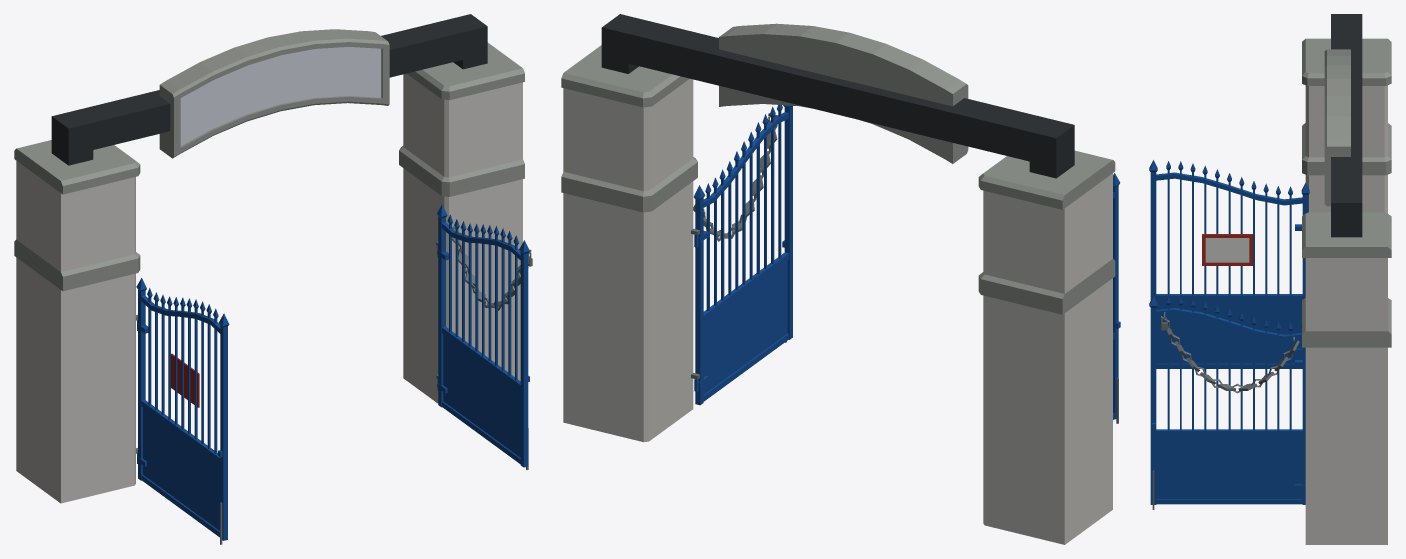
The model's file is main-entrance-gate-bb6357.glb.
3 views of the same model, side by side, from view 1: azimuth 30°, elevation 25°; view 2: azimuth 150°, elevation 25°; view 3: azimuth 270°, elevation 25° (orthographic). The views are drawn at different scales.
Visible parts, largest first — view 1: gate-mesh, gate-l-mesh, gate-r-mesh, chain-mesh; view 2: gate-mesh, gate-r-mesh, gate-l-mesh, chain-mesh; view 3: gate-mesh, gate-r-mesh, gate-l-mesh, chain-mesh.
Boxes of the visible parts, <box> form: gate-mesh: <box>14,14,524,503</box>; gate-l-mesh: <box>136,278,229,544</box>; gate-r-mesh: <box>437,204,531,469</box>; chain-mesh: <box>452,226,532,310</box>; gate-mesh: <box>561,14,1115,544</box>; gate-r-mesh: <box>694,105,792,405</box>; gate-l-mesh: <box>1113,173,1120,423</box>; chain-mesh: <box>693,116,777,241</box>; gate-mesh: <box>1302,14,1391,544</box>; gate-r-mesh: <box>1149,295,1305,509</box>; gate-l-mesh: <box>1149,160,1309,368</box>; chain-mesh: <box>1160,316,1299,393</box>.
Size of the model in its own units: 6 by 4.86 by 2.95.
